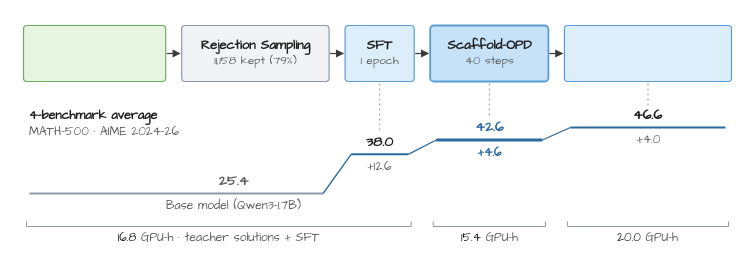
Image size: 754x266. Some labels were removed from this diagram. The shapes that lost their labels are listed below. From the top down, each one's centre as x and y in pixels, then its label:
the point at 94,53: Teacher Solutions 14,116 problems
the point at 647,53: GRPO on Failures 2,212 problems · 30 steps
